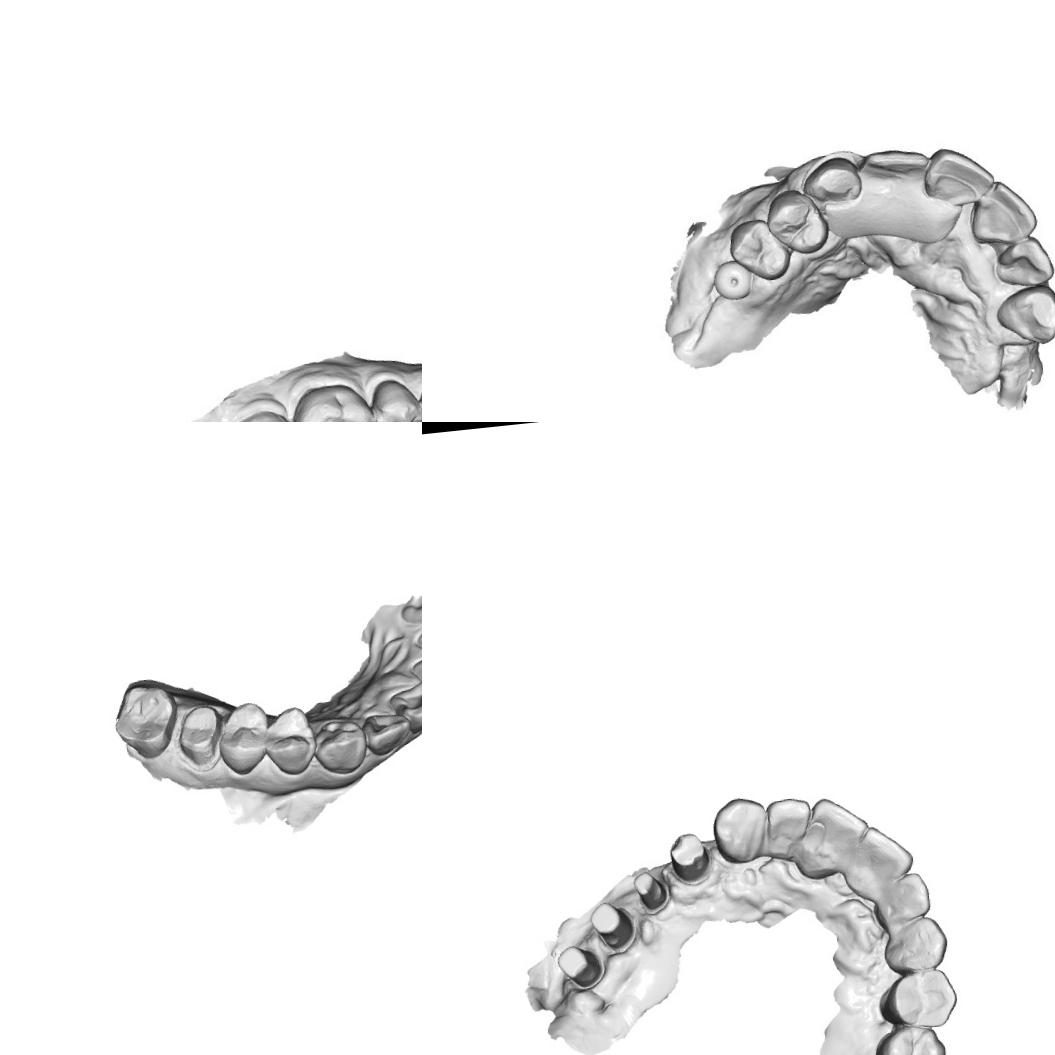abutment: (586, 897, 639, 955), (664, 830, 716, 887), (554, 941, 606, 992), (629, 868, 672, 918)
canine: (709, 793, 772, 868), (879, 914, 951, 976), (991, 285, 1055, 348), (310, 716, 370, 777), (802, 150, 862, 209)
crown: (172, 702, 227, 772)
implant: (708, 254, 760, 307)
incisor: (800, 791, 875, 873), (846, 821, 916, 894), (925, 142, 993, 208), (972, 182, 1037, 248), (874, 870, 934, 929), (760, 793, 814, 856), (998, 238, 1052, 292), (865, 145, 929, 185), (361, 710, 414, 757), (385, 674, 422, 735), (408, 642, 422, 701)
molar: (108, 680, 182, 764), (291, 382, 379, 422)
premolar: (877, 968, 961, 1034), (213, 700, 273, 778), (261, 704, 320, 779), (732, 218, 789, 281), (773, 197, 826, 252), (870, 1021, 948, 1055), (373, 380, 422, 422)
